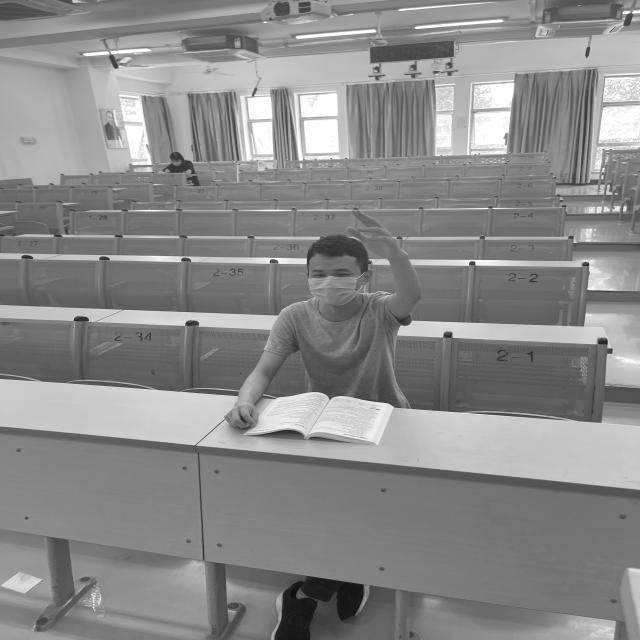study: (225, 212, 420, 433)
